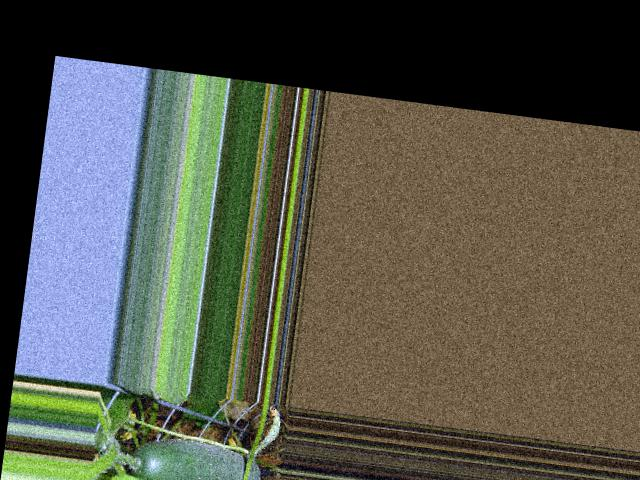cucumber: (127, 431, 263, 480)
